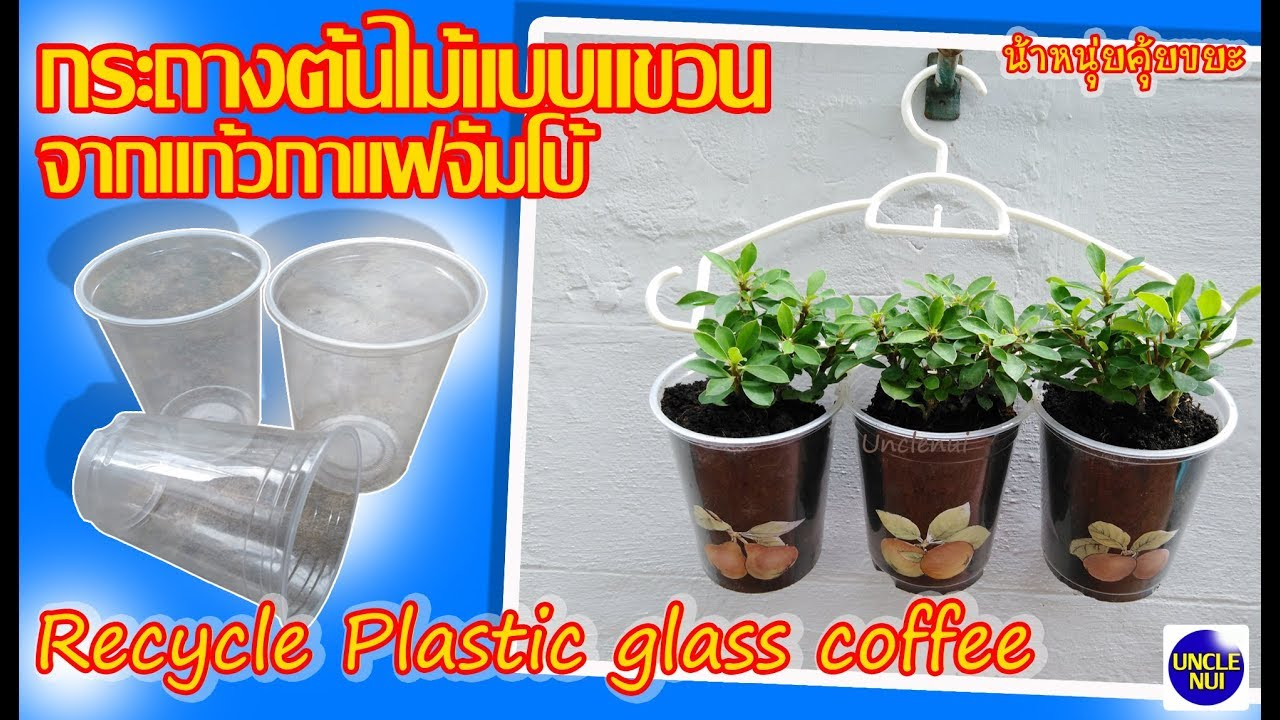plastic_bottle: (68, 405, 366, 640), (257, 227, 491, 504), (69, 221, 273, 427)
